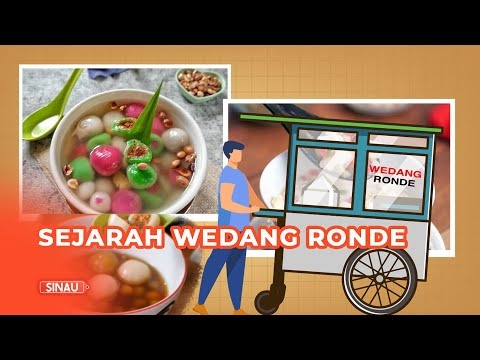ronde: (62, 101, 193, 213)
